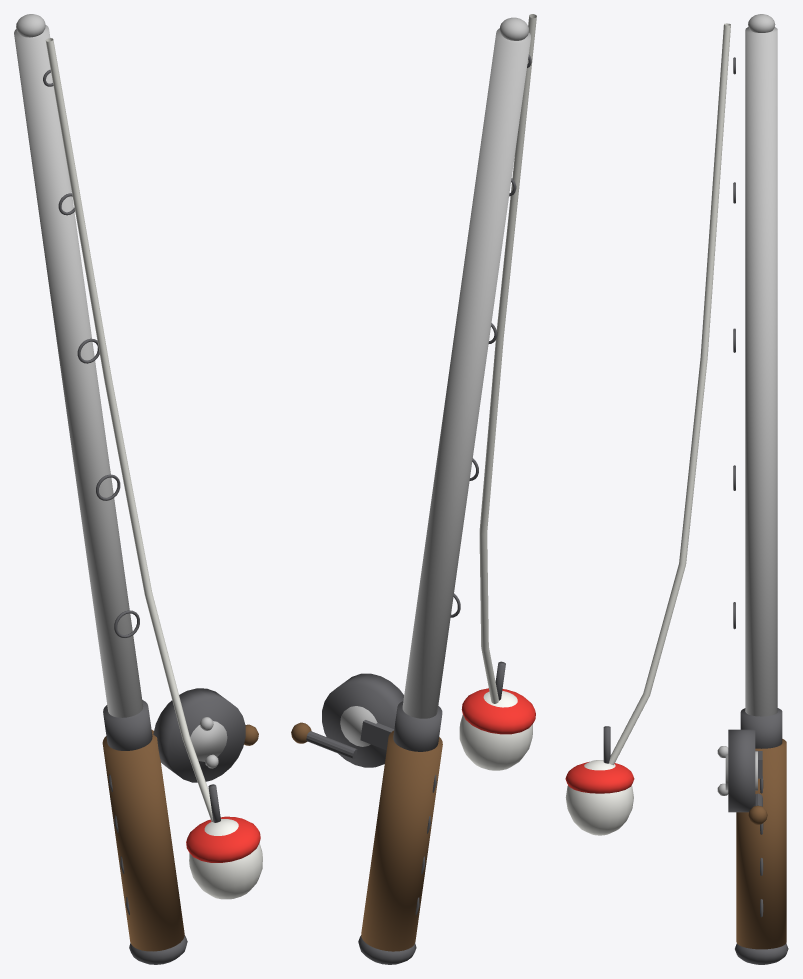
File: ironrod.fbx
The picture shows the model from 3 angles, left to right: view 1: azimuth 30°, elevation 25°; view 2: azimuth 150°, elevation 25°; view 3: azimuth 270°, elevation 25°; orthographic projection. The views are drawn at different scales.
Parts seen in each view (by area): view 1: Iron_Rod_One_Piece; view 2: Iron_Rod_One_Piece; view 3: Iron_Rod_One_Piece.
Boxes of the visible parts, x1,y1,x2,y2 form: Iron_Rod_One_Piece: (14,14,262,964); Iron_Rod_One_Piece: (291,14,536,964); Iron_Rod_One_Piece: (565,14,788,964).
Bounding box in the file's own units: 70.22 × 273 × 62.1.
